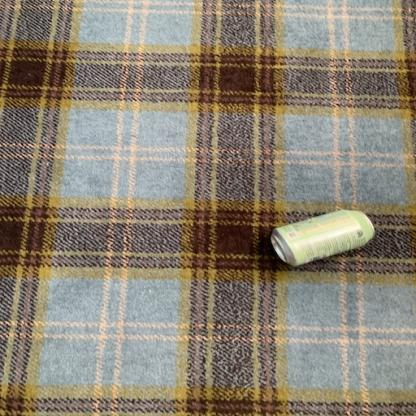trash: (268, 208, 379, 268)
